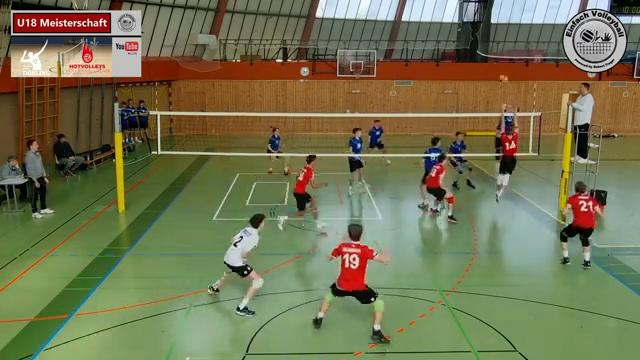attacco: (492, 97, 519, 152)
muro: (491, 101, 521, 207)
